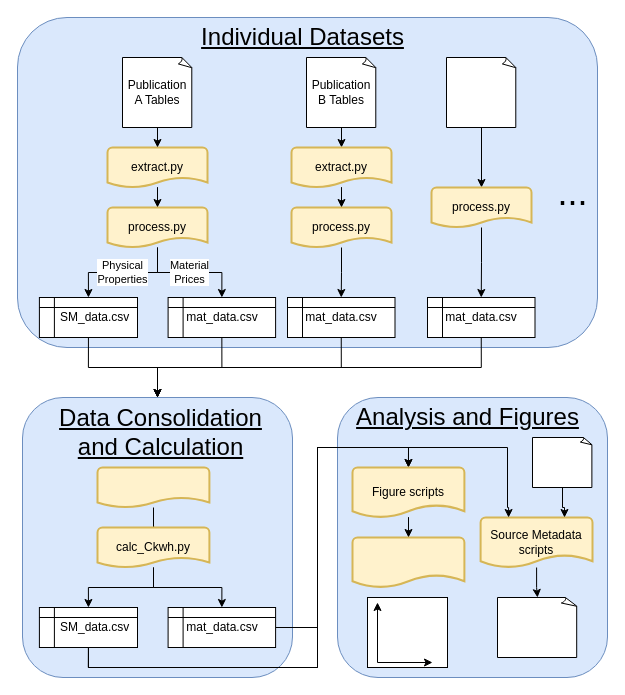
This 625x695 diagram has some shape labels left out. The shapes that lost their labels are listed below. From the top down, each one's box as (x1, y1, x2, y2) in pixels, then its label:
(446, 56, 516, 128): Website Prices
(532, 436, 592, 488): Repository Readme Files
(96, 466, 210, 508): consolidate_data.py
(351, 536, 465, 588): Figure layout SVG files
(366, 596, 448, 668): Paper Figures
(496, 596, 578, 658): Supporting Information
